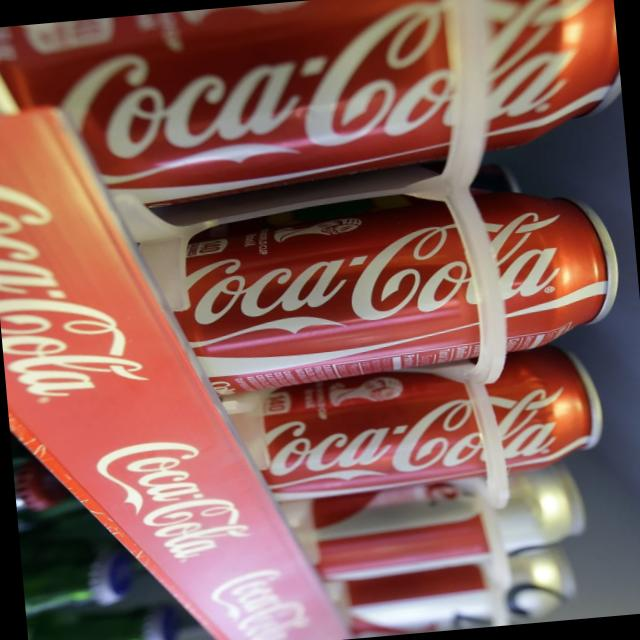soda_can: (125, 173, 634, 407), (217, 341, 622, 513)
